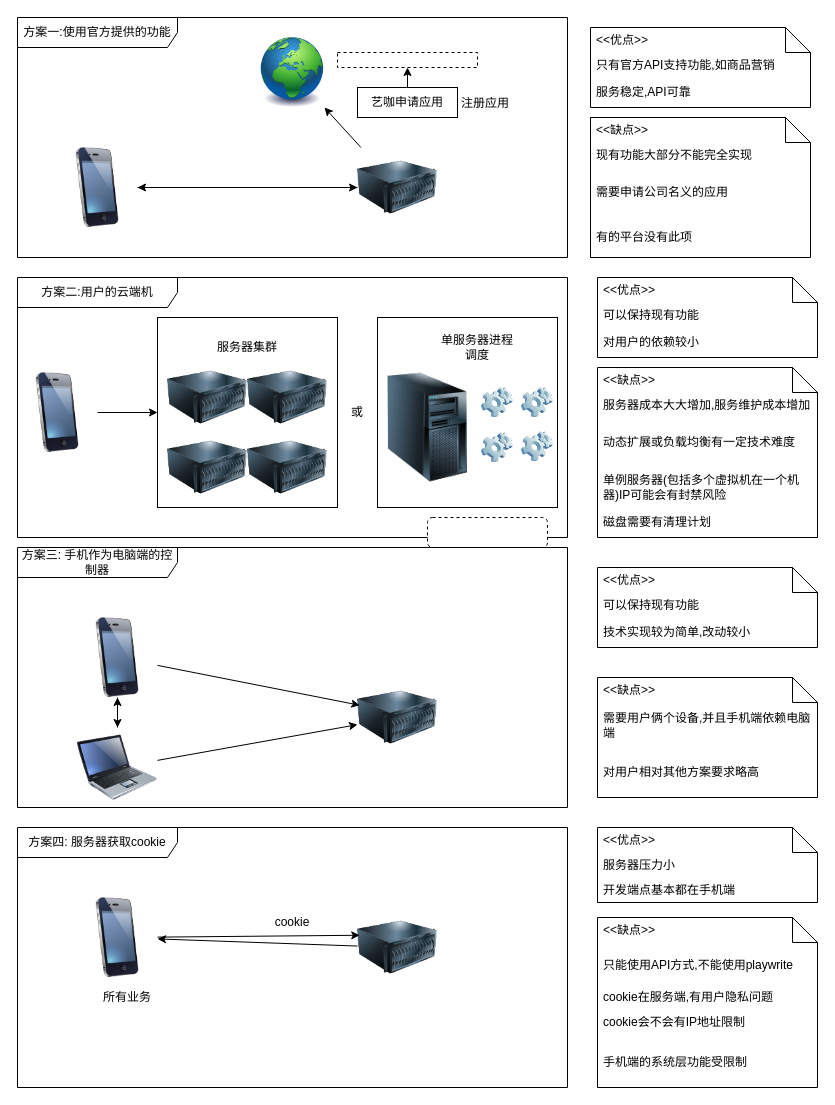
Image size: 835x1105. Some labels were removed from this diagram. The centre of each missing label's shape, as x and y in pixels:
"三方平台" goes at pixel 407 60.
"数据库结构需更改" goes at pixel 487 532.
